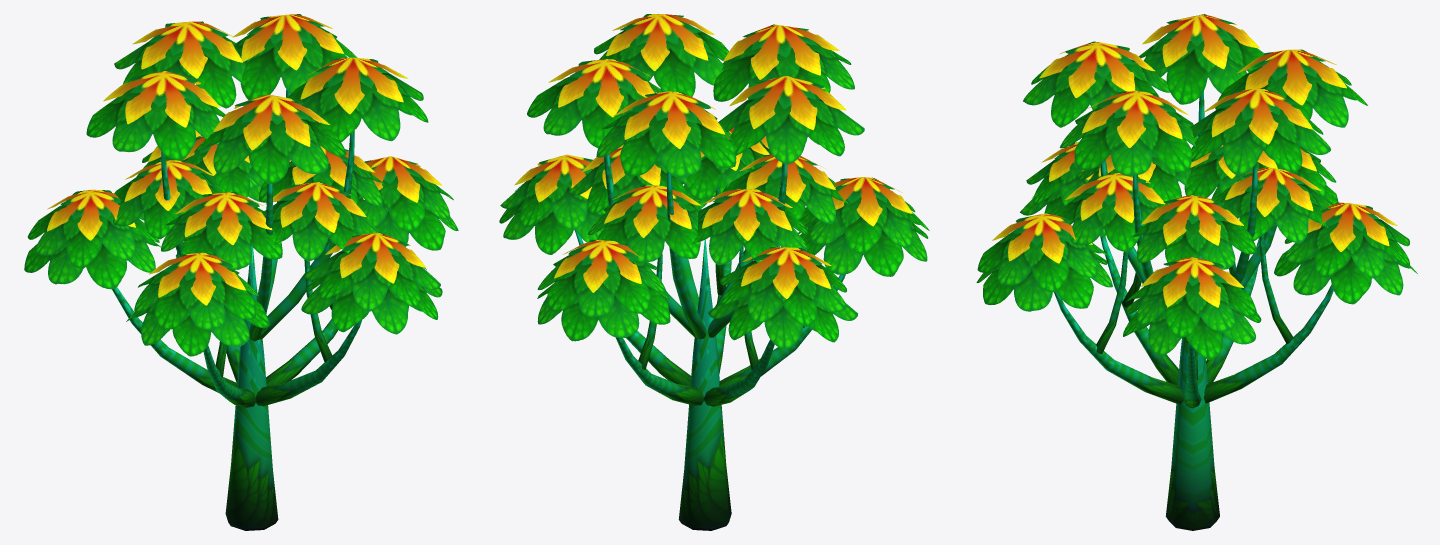
File: Green_Tree_05a.FBX
3 renders of one model, left to right at view 1: azimuth 30°, elevation 25°; view 2: azimuth 150°, elevation 25°; view 3: azimuth 270°, elevation 25°, orthographic.
Visible parts, largest first — view 1: Green_Tree_05a; view 2: Green_Tree_05a; view 3: Green_Tree_05a.
Part boxes in pixels (x1,y1,x2,y2): Green_Tree_05a: [24, 14, 458, 530]; Green_Tree_05a: [499, 14, 929, 530]; Green_Tree_05a: [976, 14, 1417, 530].
Bounding box in the file's own units: 397 × 455 × 405.
